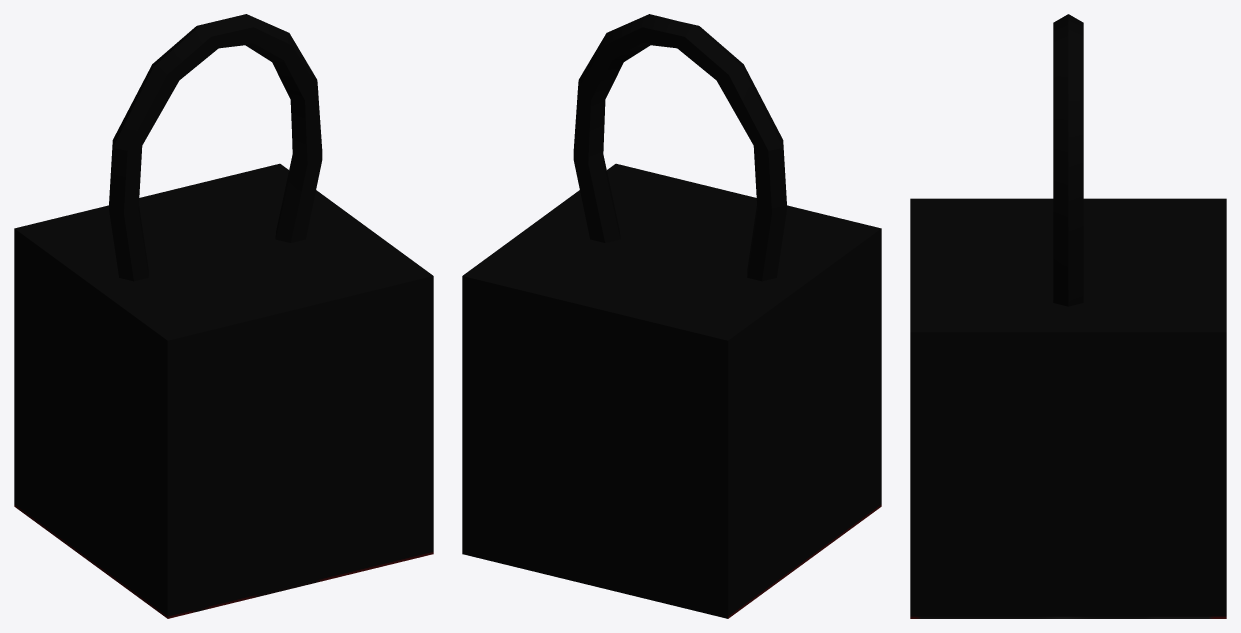
Rendered from toy_block 1.fbx.
3 views of the same model, side by side, from view 1: azimuth 30°, elevation 25°; view 2: azimuth 150°, elevation 25°; view 3: azimuth 270°, elevation 25° (orthographic). The views are drawn at different scales.
Parts seen in each view (by area): view 1: block; view 2: block; view 3: block.
Part boxes in pixels (x1,y1,x2,y2): block: [14, 14, 433, 618]; block: [462, 14, 881, 618]; block: [910, 14, 1226, 618].
Bounding box in the file's own units: 1 × 1.84 × 1.
